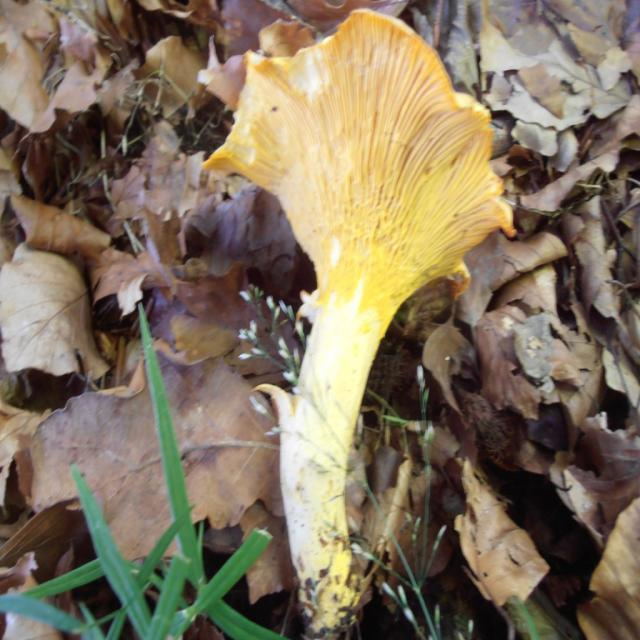Cantharellus cibarius: (201, 10, 517, 631)
